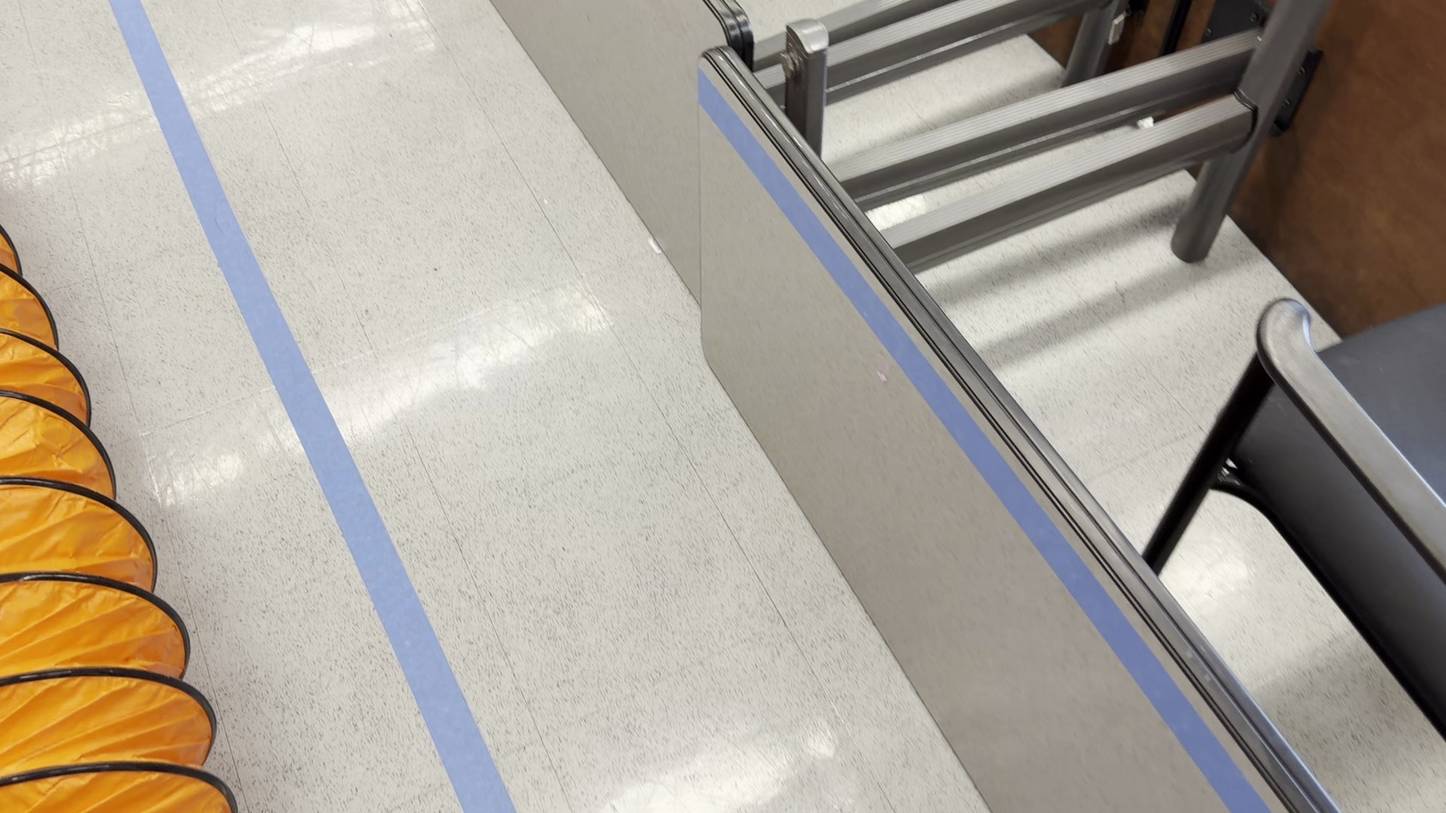racecar: (1140, 479, 1443, 813)
